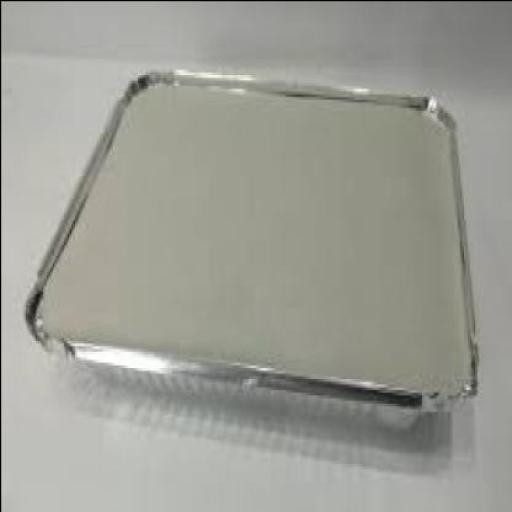metal: (25, 66, 480, 446)
